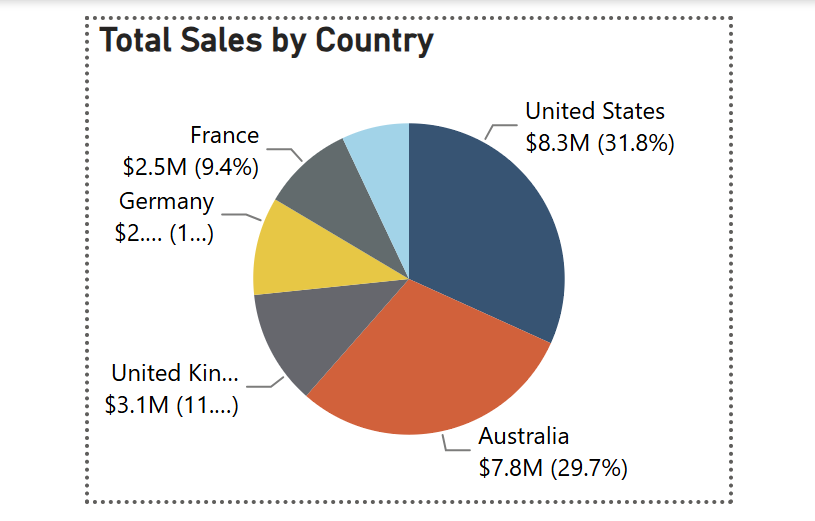

This screenshot's page, from the dashboard's own definition file:
{"tool":"powerbi","page":{"name":"Sales Regions","canvas":[320,240],"ordinal":3},"visuals":[{"type":"pieChart","title":"Total Sales by Country","fields":{"Category":["Sales Territory.Sales Territory Country"],"Y":["Sales.Total Sales"]},"box":[0,0,320,240],"z":0}]}

Visuals, with their boxes on the page's 320x240 design canvas (x1, y1, x2, y2). These are canvas units, not pixel positions in the 815x521 screenshot, which may show the page scaled, cropped or inside an application window:
"Total Sales by Country" pieChart: bbox=(0, 0, 320, 240)
